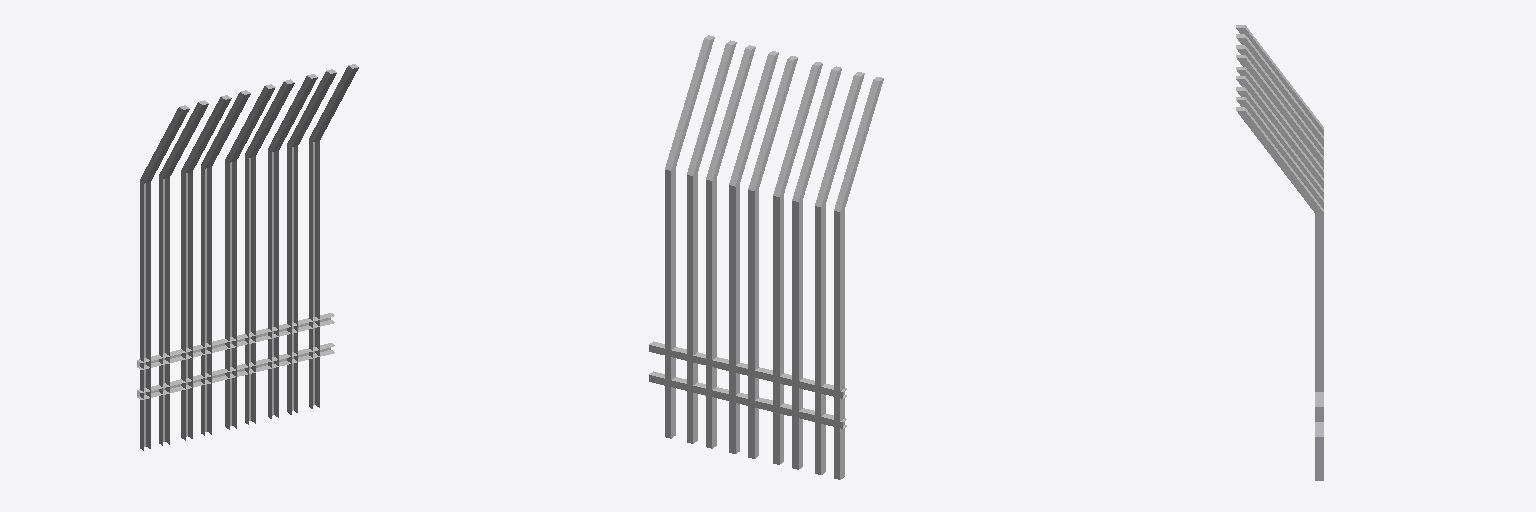
Rendered from jail_Railing2.obj.
3 views of the same model, side by side, from view 1: azimuth 30°, elevation 25°; view 2: azimuth 150°, elevation 25°; view 3: azimuth 270°, elevation 25° (orthographic).
Parts seen in each view (by area): view 1: Cube.011_Cube.007; view 2: Cube.011_Cube.007; view 3: Cube.011_Cube.007.
Part boxes in pixels (x1,y1,x2,y2): Cube.011_Cube.007: (137, 64, 358, 450); Cube.011_Cube.007: (649, 35, 883, 479); Cube.011_Cube.007: (1236, 25, 1323, 480).
Bounding box in the file's own units: 9.22 × 16.74 × 3.6.